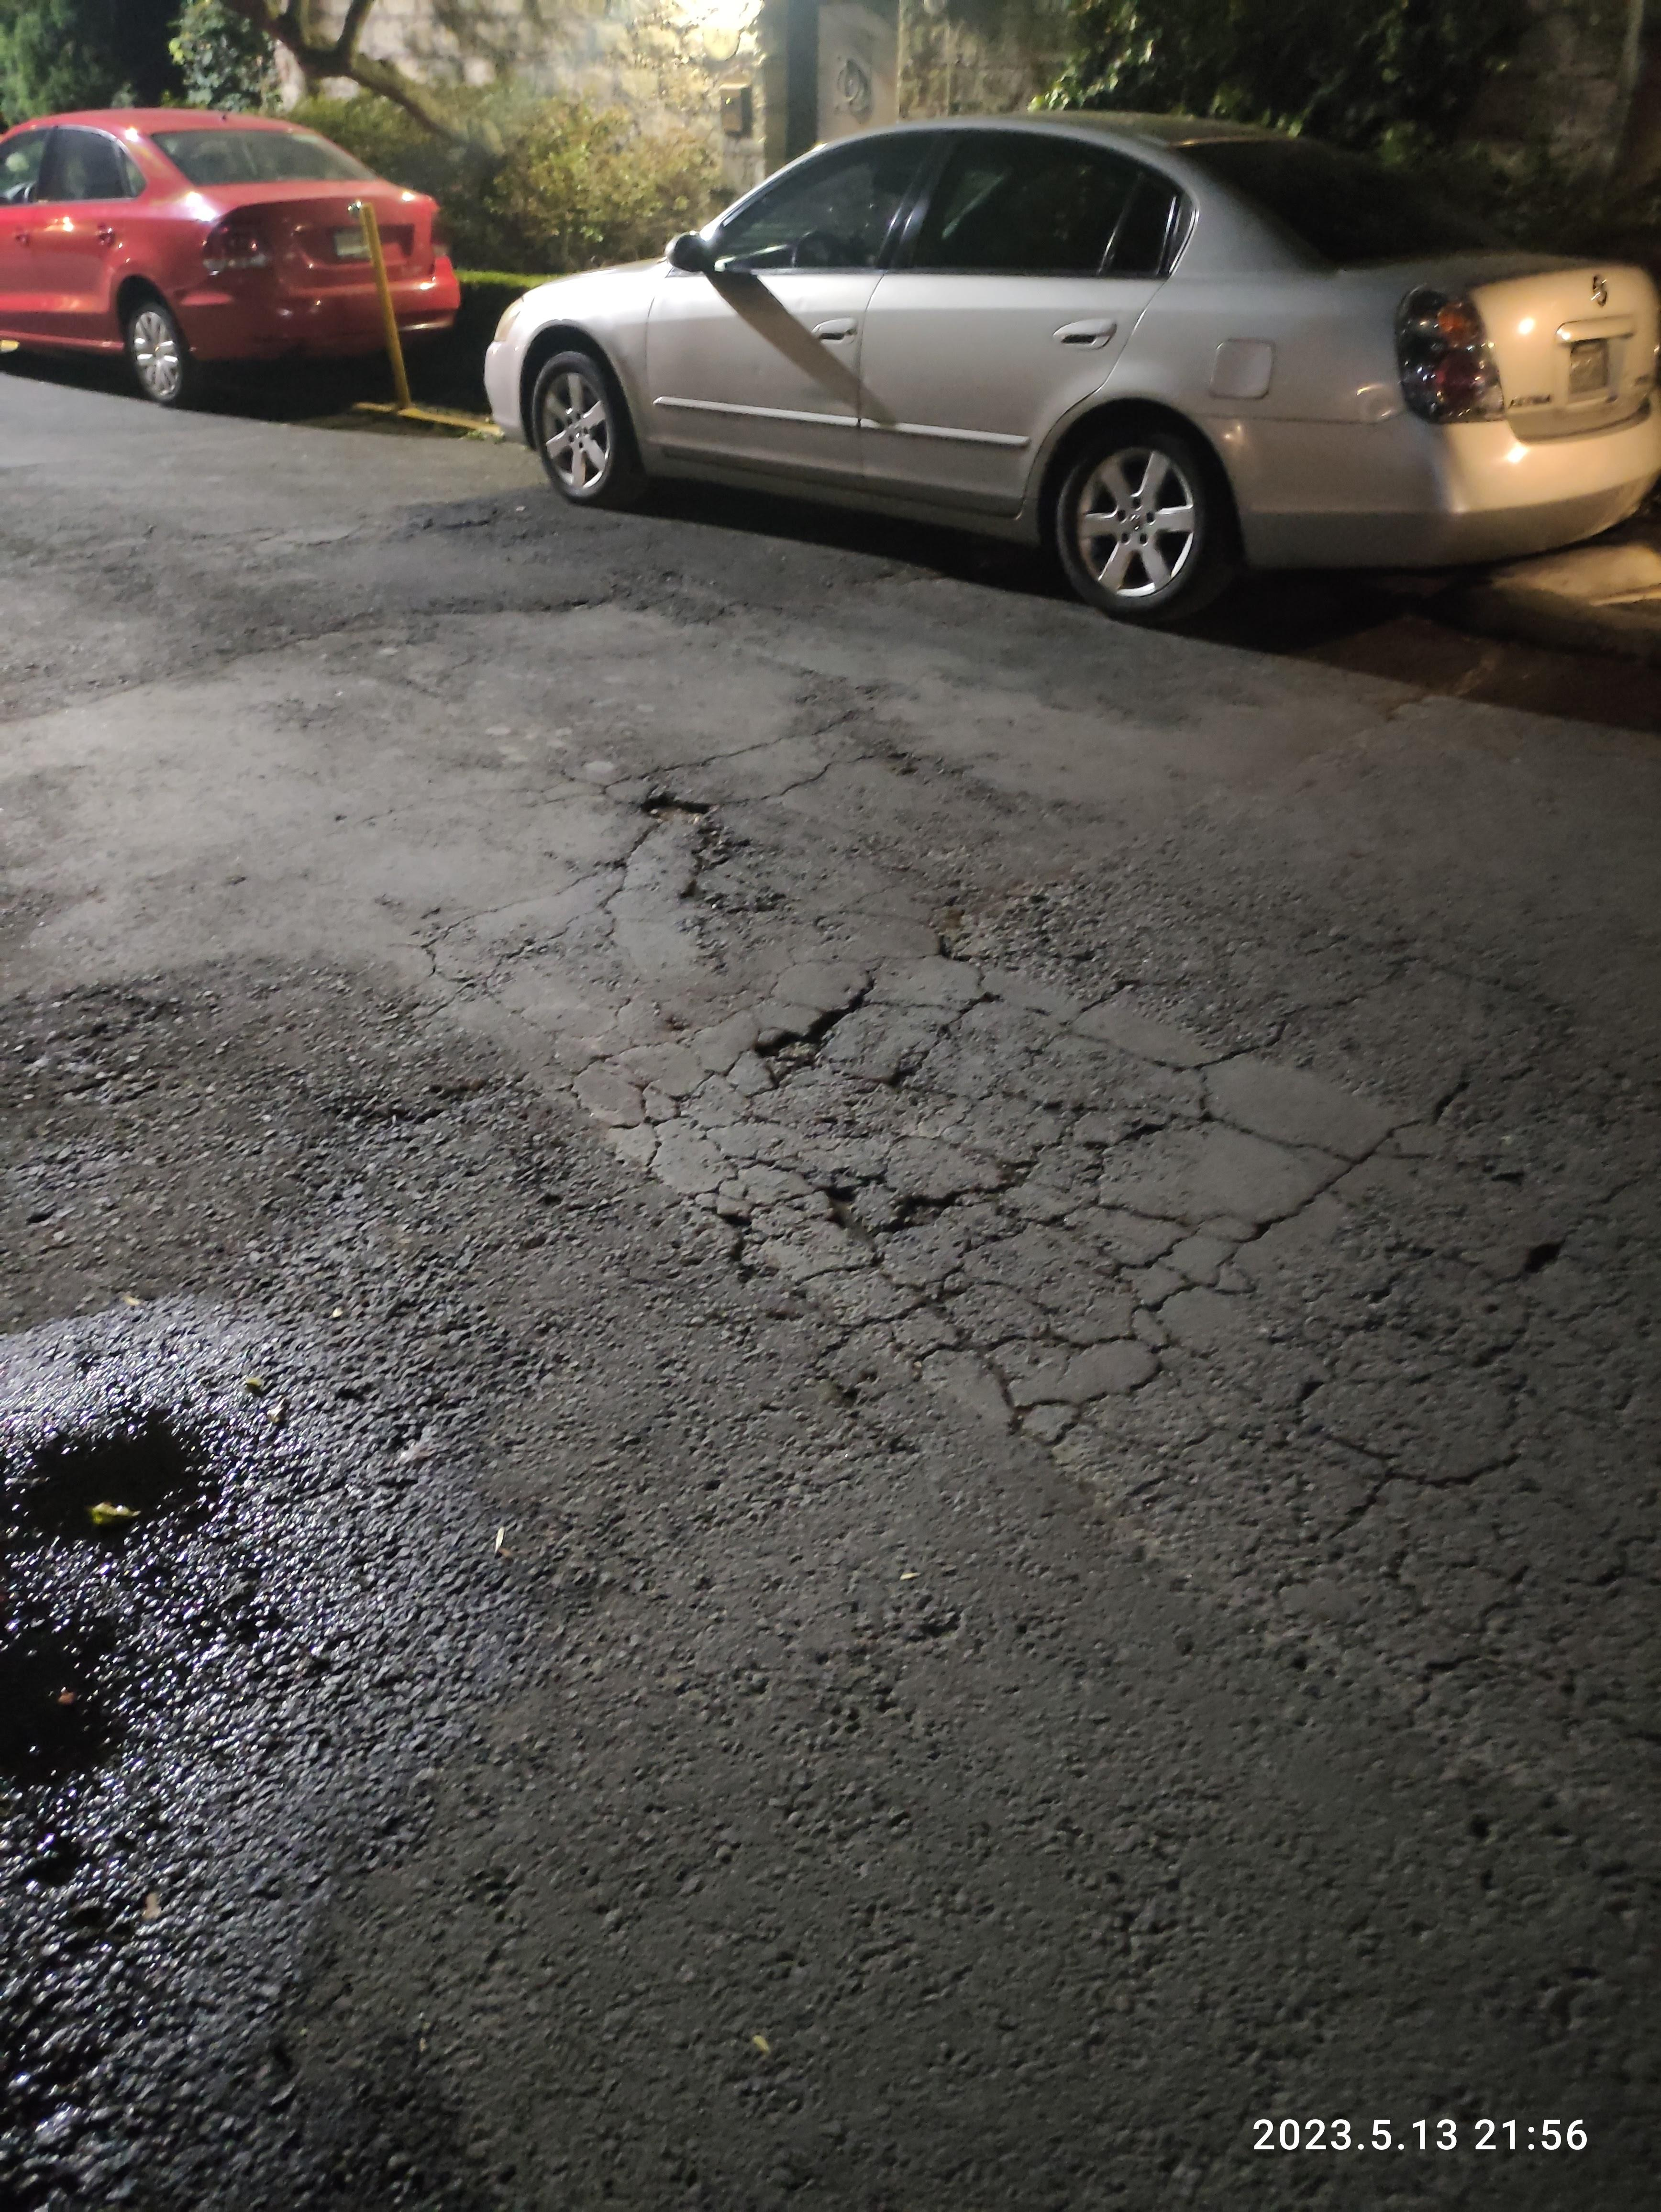alligator-crack: (598, 902, 1661, 1746), (393, 694, 954, 1050)
